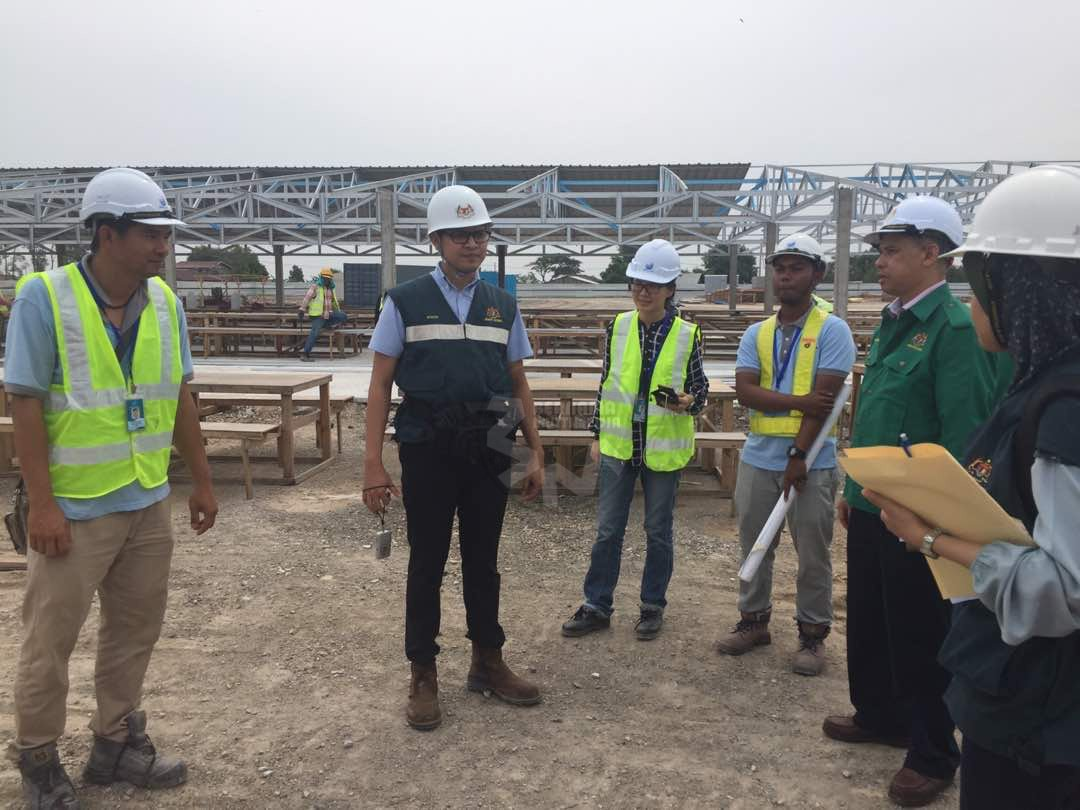Safety Helmet: (927, 143, 1080, 377), (63, 155, 198, 312), (400, 164, 520, 303), (847, 179, 969, 309), (751, 216, 835, 325), (618, 219, 693, 331)
